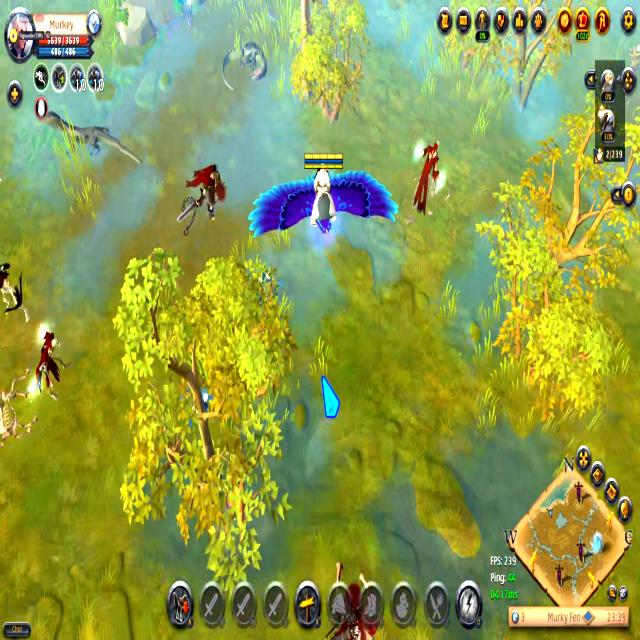hide: (175, 0, 198, 28)
ore: (34, 101, 144, 172), (26, 324, 70, 404), (411, 133, 447, 226), (176, 166, 226, 228), (0, 259, 32, 323), (328, 604, 364, 640)
red: (239, 150, 403, 240)
